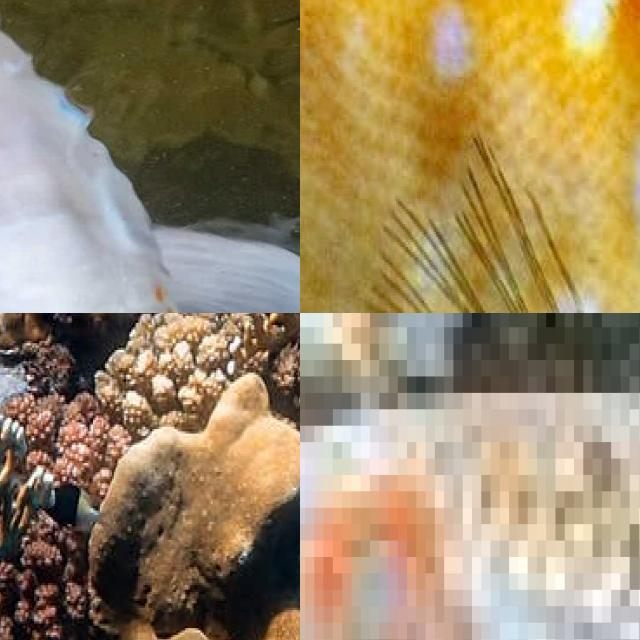fish: (300, 0, 640, 313), (0, 0, 300, 313), (171, 313, 300, 640)
